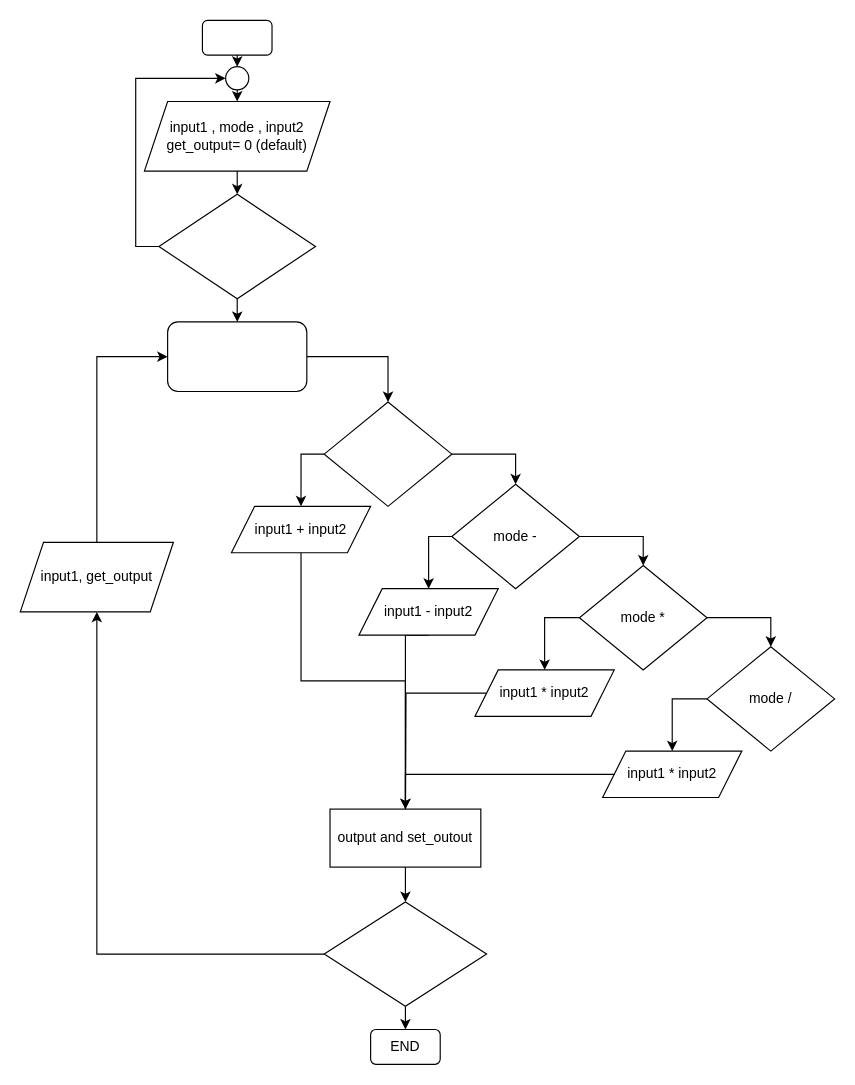
Image size: 855x1085. Some labels were removed from this diagram. The centre of each missing label's shape, as x and y in pixels:
Check data type: (x=237, y=246)
continue to calculate: (x=405, y=953)
main function call is calculator: (x=236, y=356)
mode +: (x=387, y=453)
Start: (x=236, y=37)
